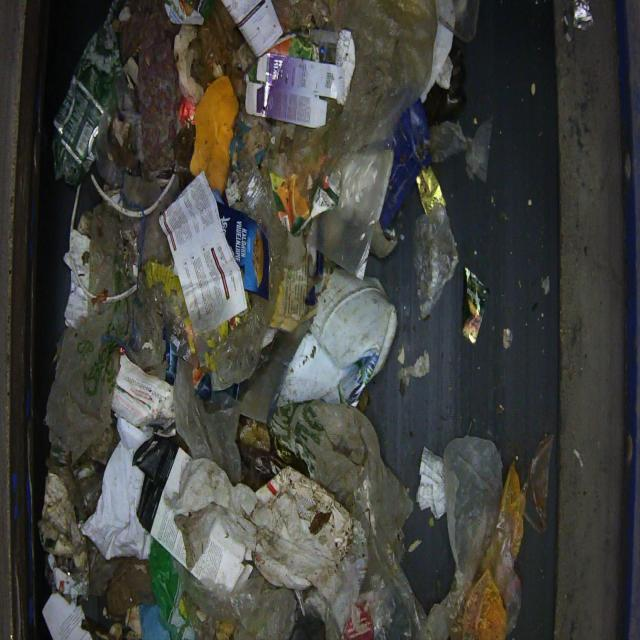cups: (274, 267, 398, 412)
other-trash: (37, 0, 530, 638)
